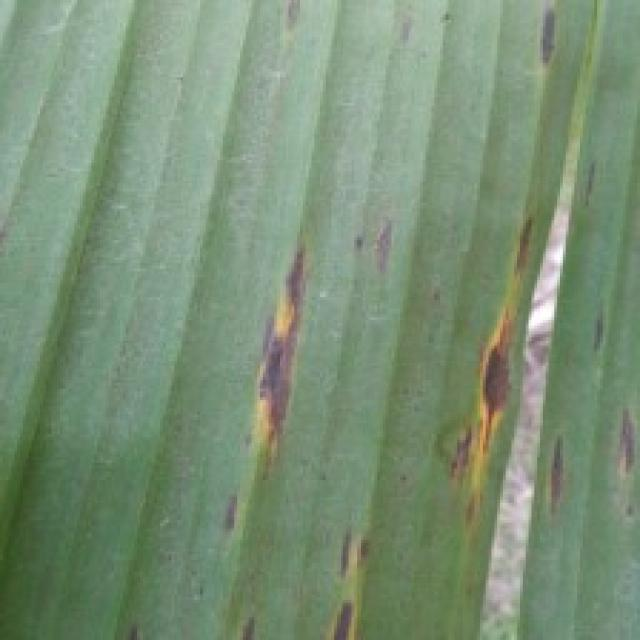Early_leaf_spot: (441, 204, 603, 540), (190, 224, 338, 531), (558, 150, 640, 541), (263, 502, 393, 640), (334, 190, 427, 288), (518, 0, 596, 87), (210, 564, 263, 640), (373, 3, 440, 63), (94, 577, 150, 640), (248, 0, 311, 51)
